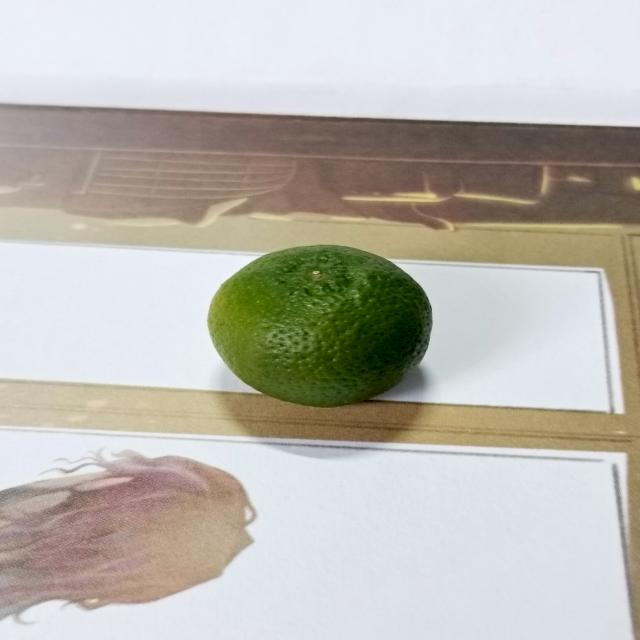heathy: (200, 240, 434, 410)
